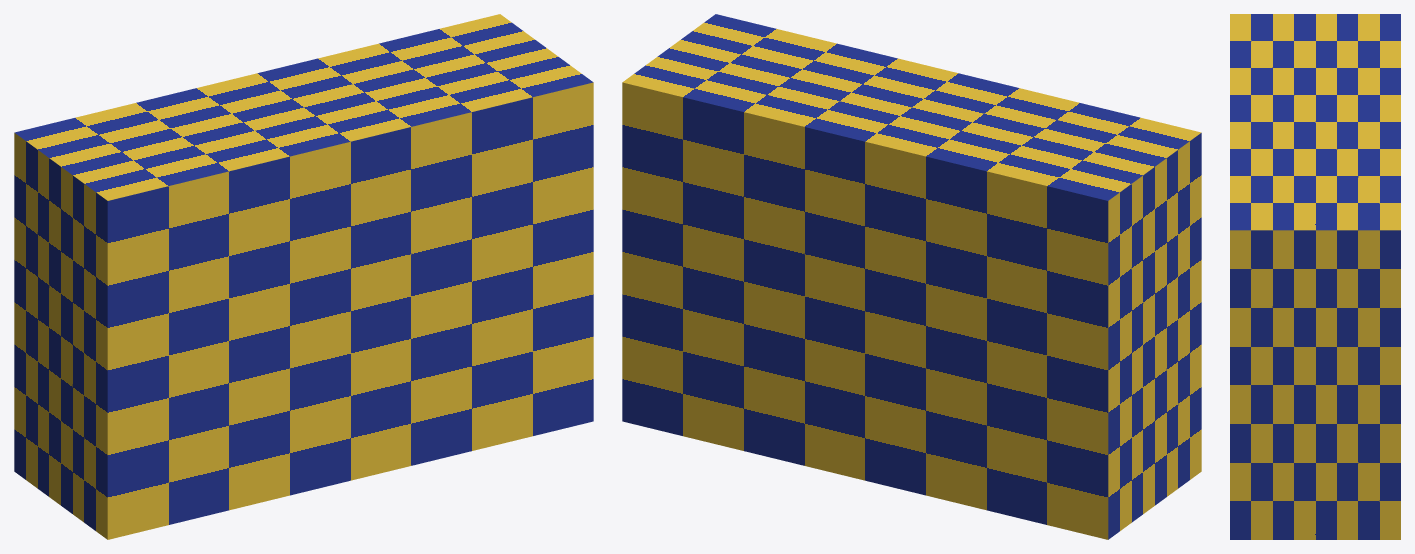
The picture shows the model from 3 angles, left to right: view 1: azimuth 30°, elevation 25°; view 2: azimuth 150°, elevation 25°; view 3: azimuth 270°, elevation 25°; orthographic projection. The views are drawn at different scales.
Visible parts, largest first — view 1: Box; view 2: Box; view 3: Box.
Boxes of the visible parts, left/top/right/bottom form: Box: left=14, top=14, right=593, bottom=539; Box: left=622, top=14, right=1201, bottom=539; Box: left=1230, top=14, right=1400, bottom=539.
Size of the model in its own units: 30 by 20 by 10.
Materials: 1 (1 with a texture image).
